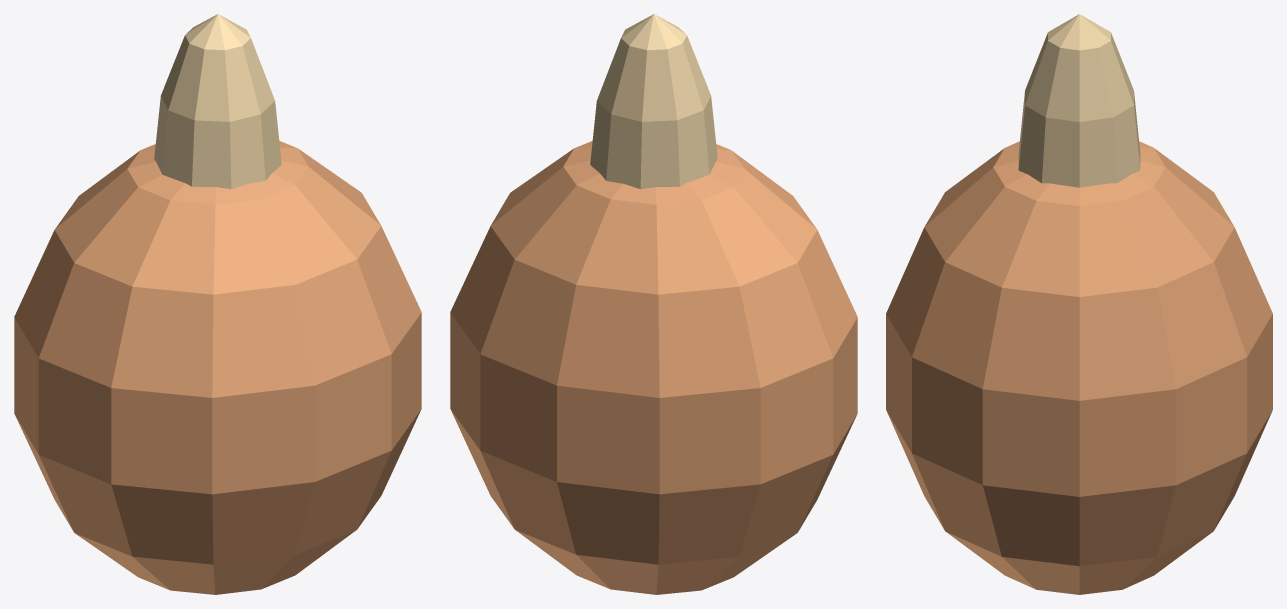
File: llama.glb
The picture shows the model from 3 angles, left to right: view 1: azimuth 30°, elevation 25°; view 2: azimuth 150°, elevation 25°; view 3: azimuth 270°, elevation 25°; orthographic projection.
Parts seen in each view (by area): view 1: llama; view 2: llama; view 3: llama.
Boxes of the visible parts, x1,y1,x2,y2 form: llama: (14,14,421,594); llama: (450,14,857,594); llama: (886,14,1272,594).
Bounding box in the file's own units: 0.624 × 0.94 × 0.585.
